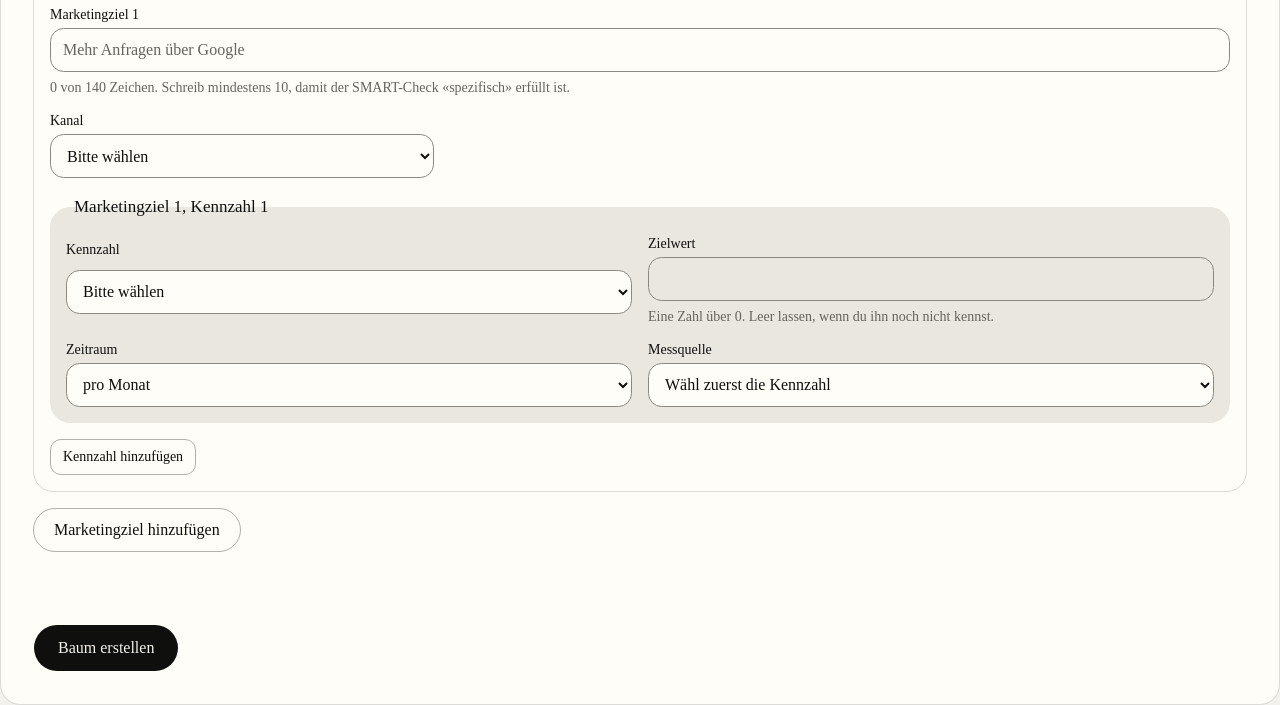
Test: Ziel- und KPI-Baum: Formular › meldet fehlende Angaben in einer Meldung (role alert), zeigt kein Ergebnis und schickt nichts
(page scrolled)
Step 1. Click the button "Baum erstellen" → (106, 648), box [33,624,179,672]
(page scrolled)
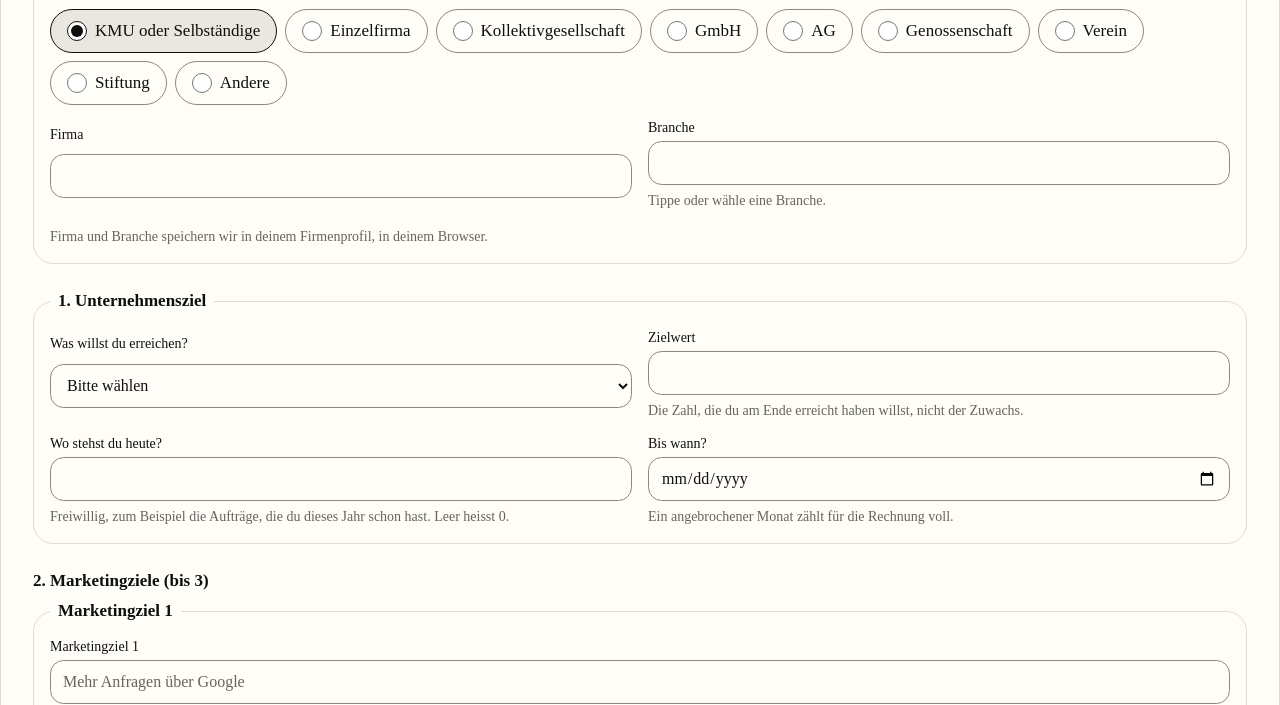
Step 2. Select "Aufträge" in the dropdown with id "kb-art" → (341, 386), box [50,364,632,408]
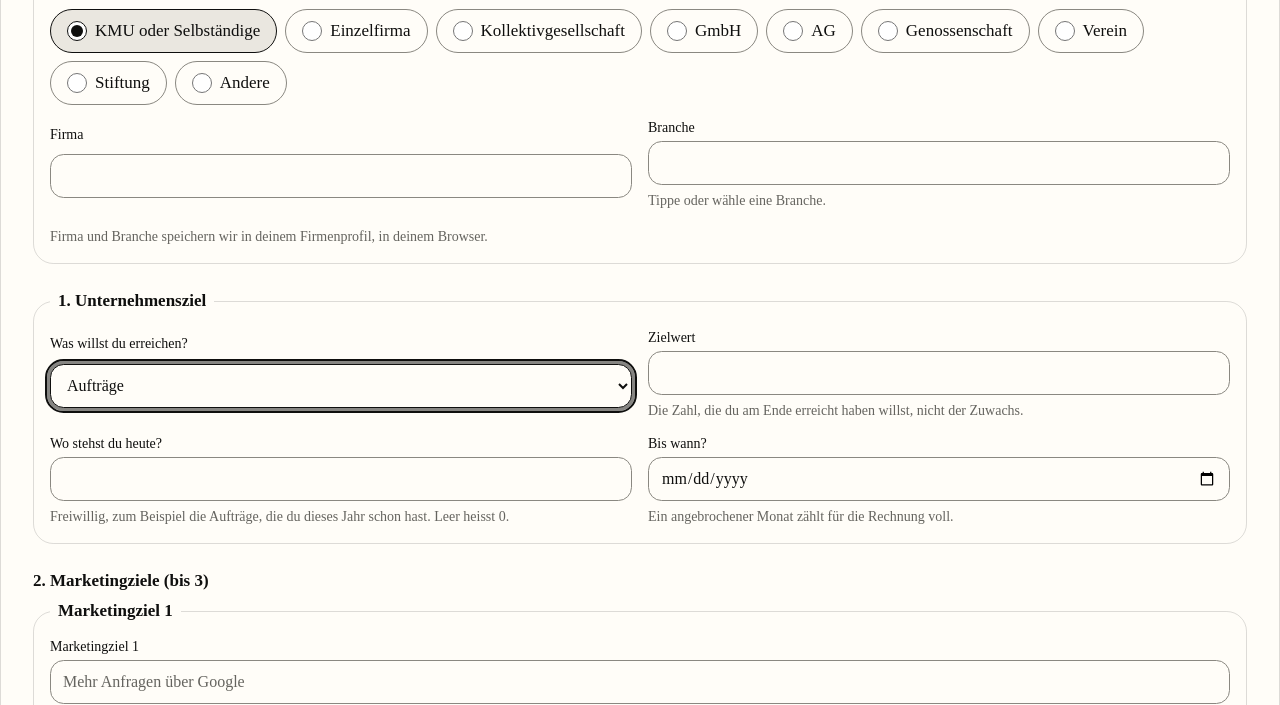
Step 3. Type "30" into the number field with id "kb-zielwert" → (939, 373), box [648,351,1230,395]
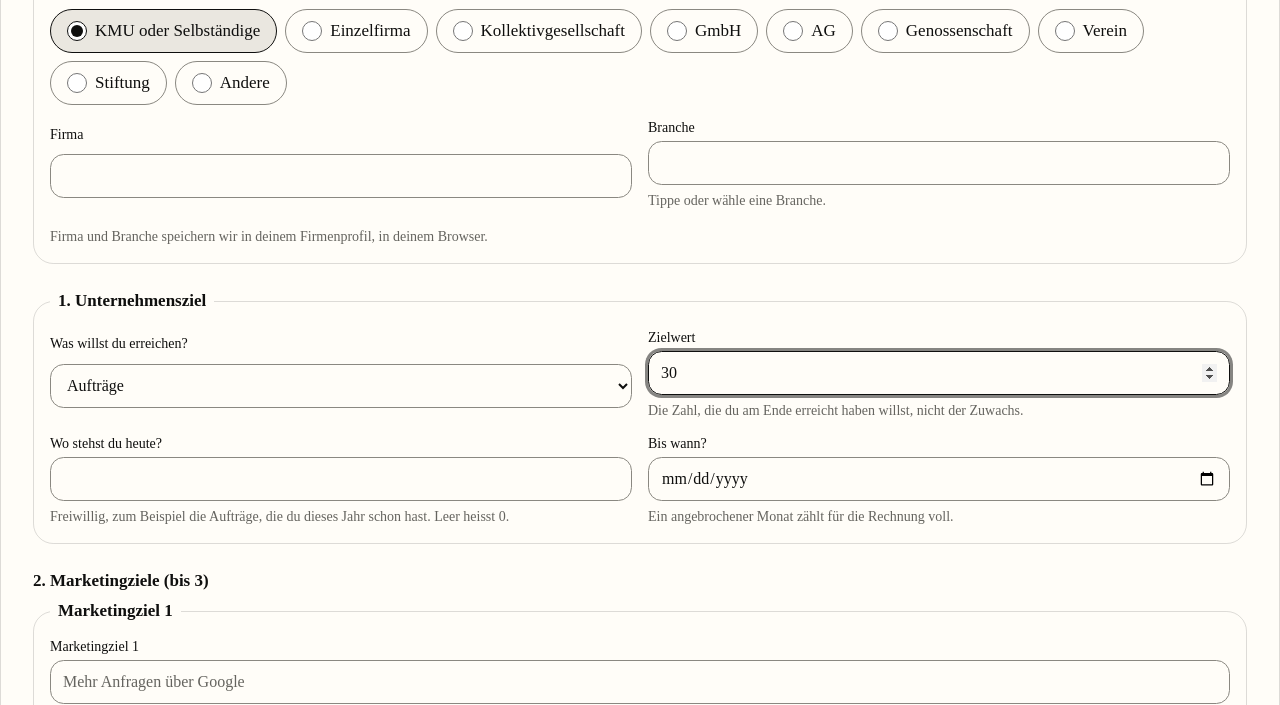
Step 4. Type "2026-12-31" into the date field with id "kb-ende" → (939, 479), box [648,457,1230,501]
(page scrolled)
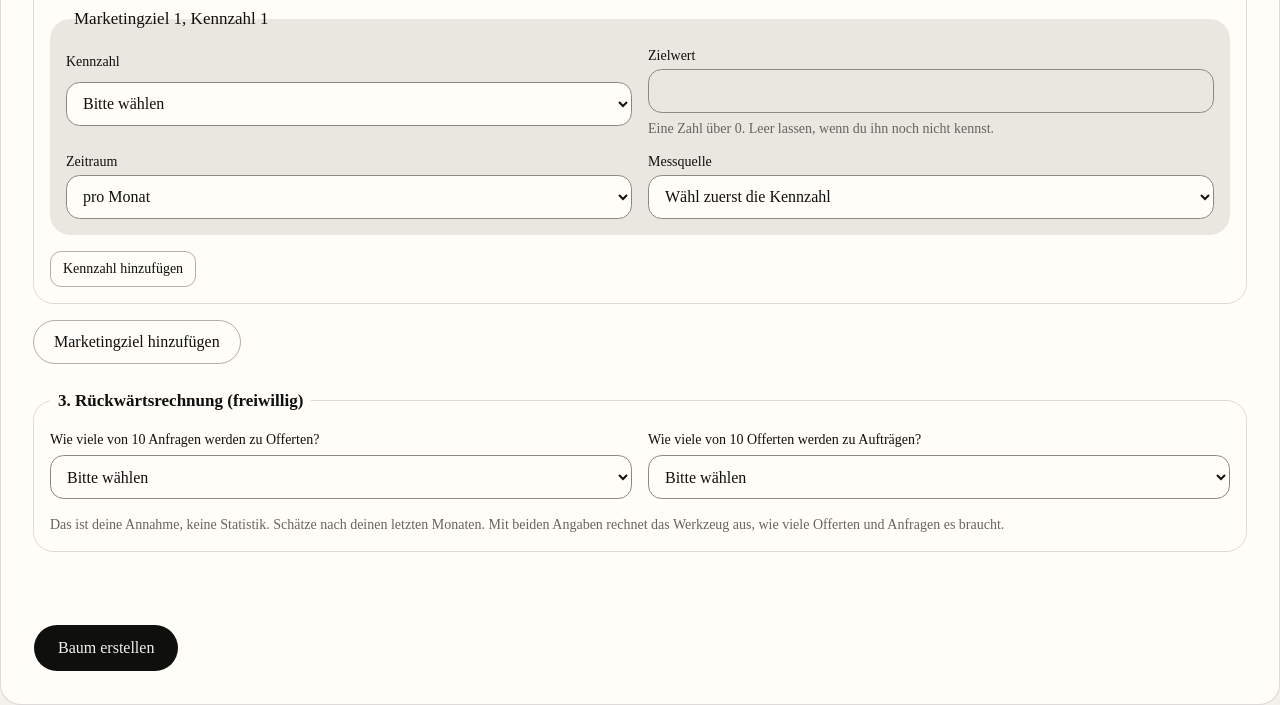
Step 5. Click the button "Baum erstellen" → (106, 648), box [33,624,179,672]
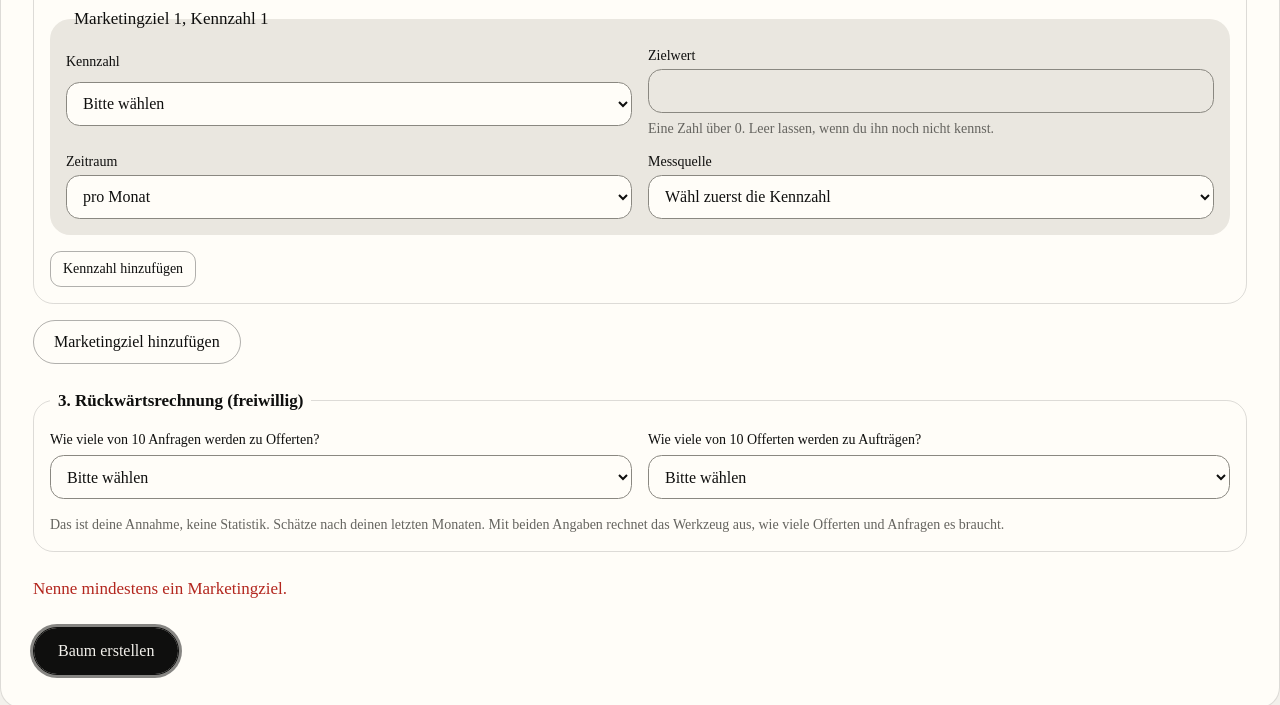
Expected: the message reads "Nenne mindestens ein Marketingziel.", [33,579,287,598]
